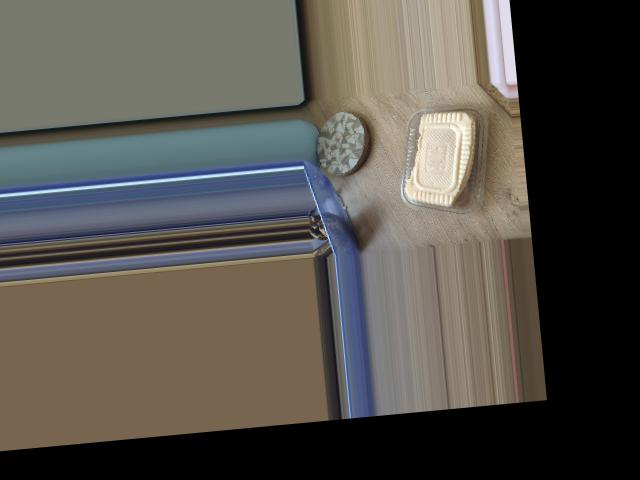cheese: (385, 86, 519, 210)
